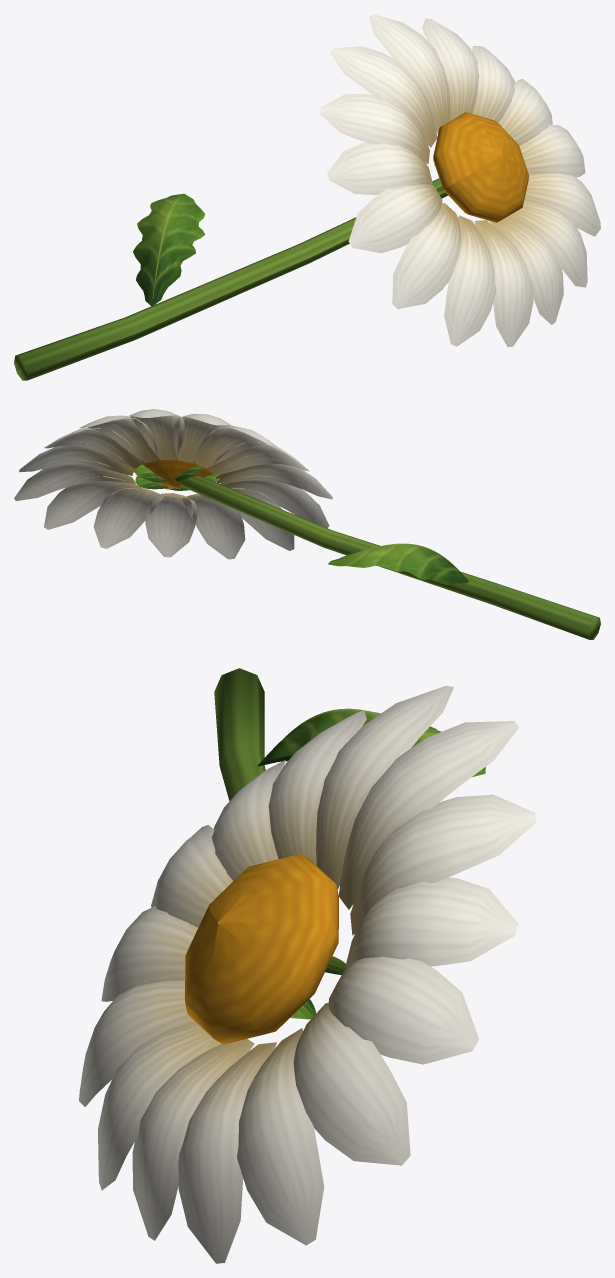
File: NP_Daisy_Harvest.fbx
The picture shows the model from 3 angles, top to bottom: view 1: azimuth 30°, elevation 25°; view 2: azimuth 150°, elevation 25°; view 3: azimuth 270°, elevation 25°; orthographic projection. The views are drawn at different scales.
Parts seen in each view (by area): view 1: NP_Daisy_Harvest.001; view 2: NP_Daisy_Harvest.001; view 3: NP_Daisy_Harvest.001.
Part boxes in pixels (x1,y1,x2,y2): NP_Daisy_Harvest.001: (14,14,600,380); NP_Daisy_Harvest.001: (14,409,600,639); NP_Daisy_Harvest.001: (79,668,535,1263).
Size of the model in its own units: 93.88 by 37.18 by 34.45.
